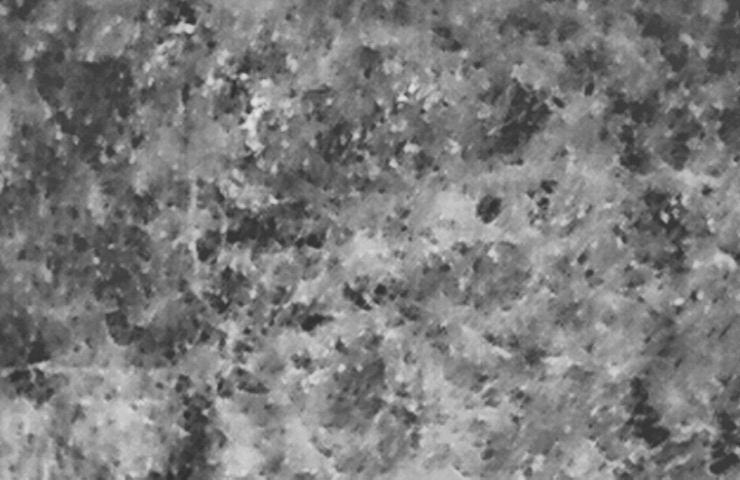landmines: (324, 220, 359, 251)
